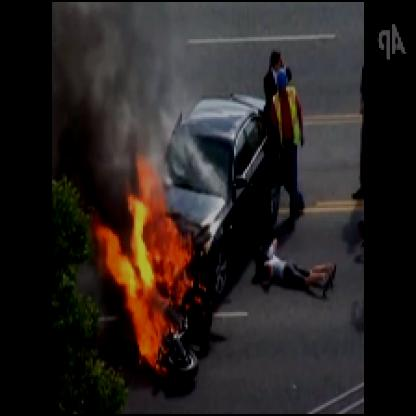Fire: (91, 152, 212, 381)
Smoke: (54, 28, 171, 174)
